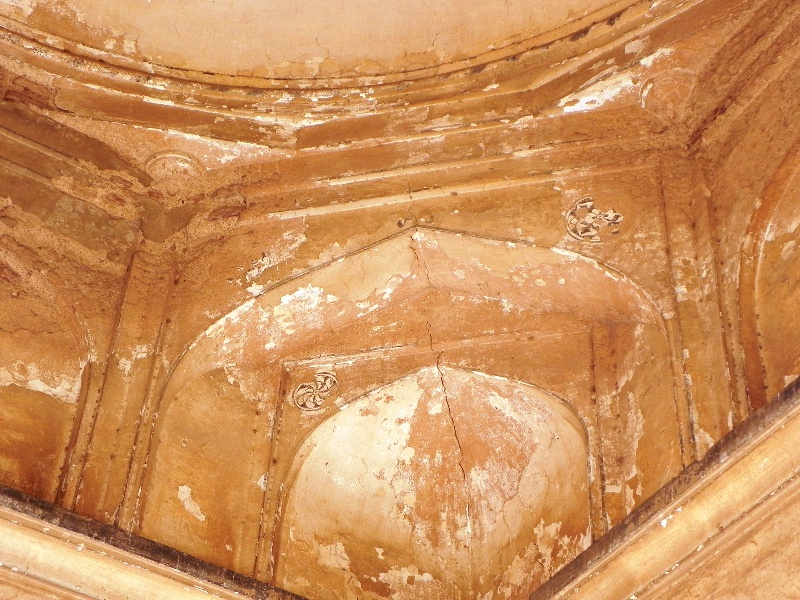Crack: (438, 366, 470, 485), (409, 233, 427, 276)
